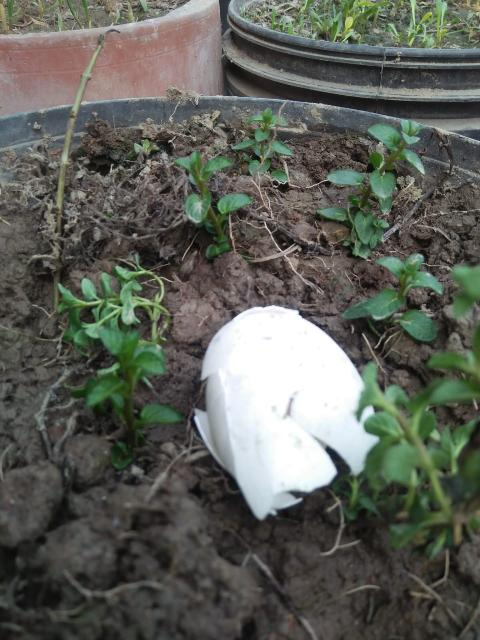Roto: (192, 304, 381, 521)
